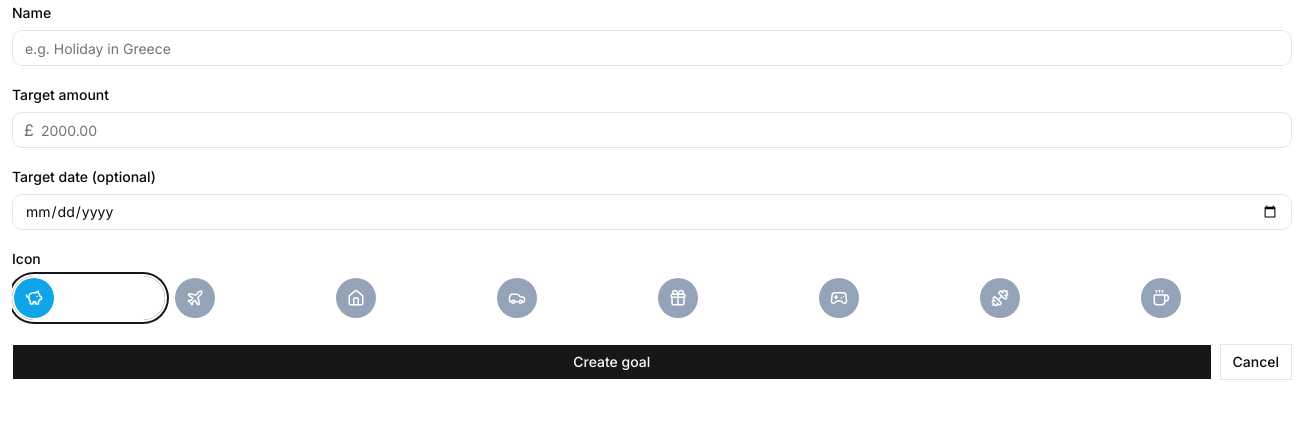
Test: GoalForm (KAN-65) › validates required name on submit
The image size is (1304, 423).
Type "100" into the number field labelled "Target amount" at (652, 130), box [12,112,1292,148]
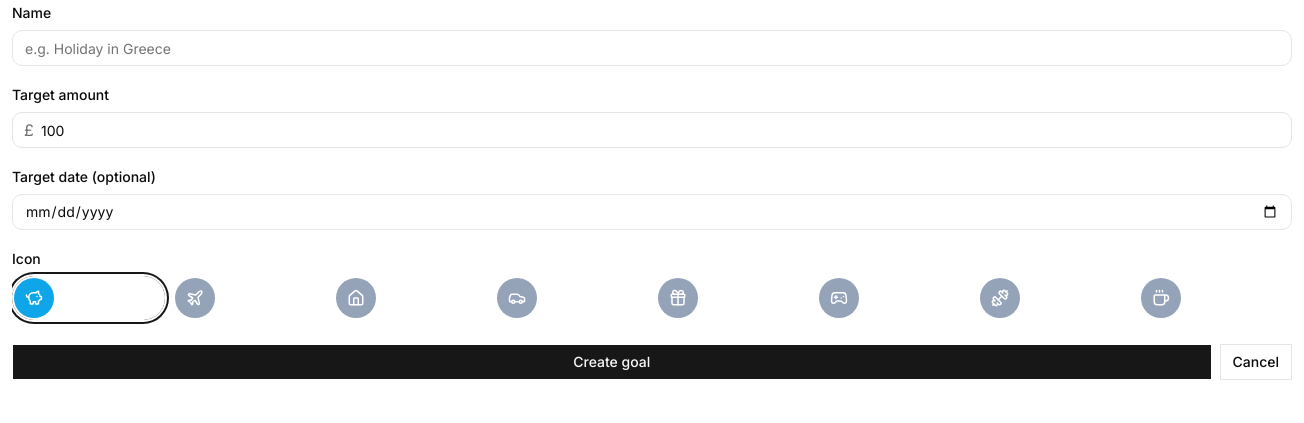
Click the button "Create goal" at (612, 362), box [12,344,1212,380]
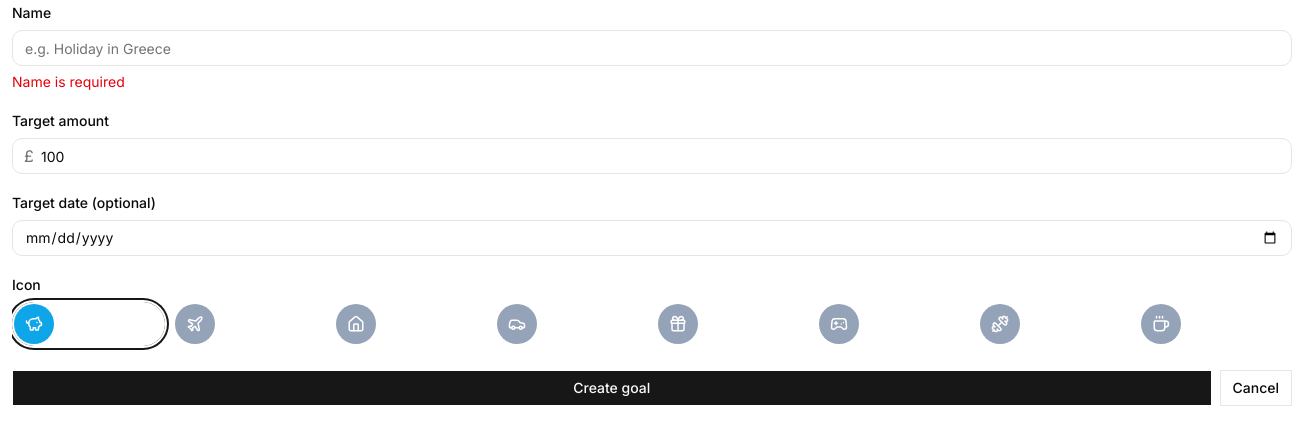
Result: the text "Name is required" is shown at [12,73,125,90]
